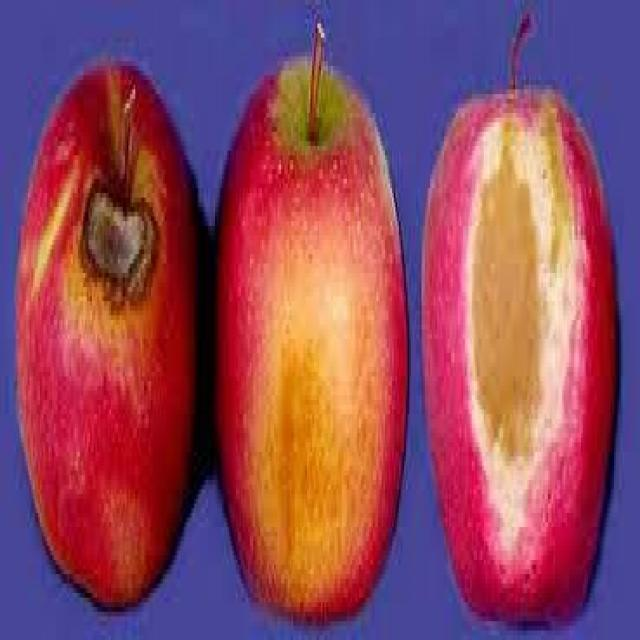Banana: (213, 53, 413, 630), (418, 85, 623, 630), (10, 53, 207, 613)
